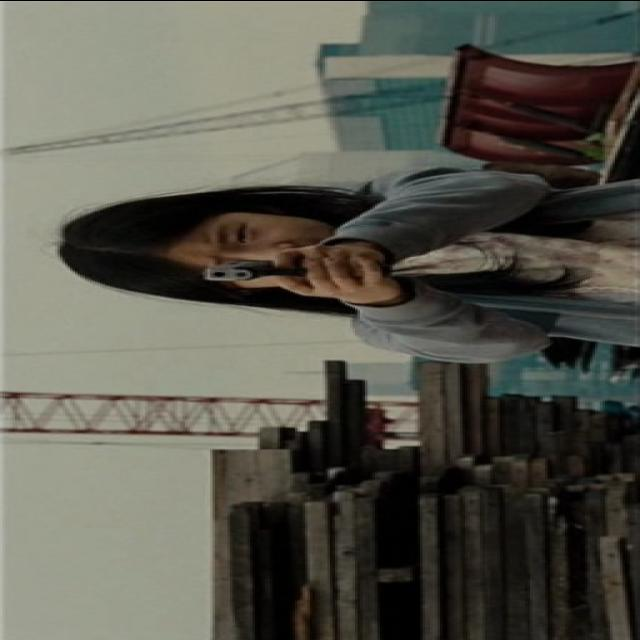weapons: (167, 246, 381, 294)
